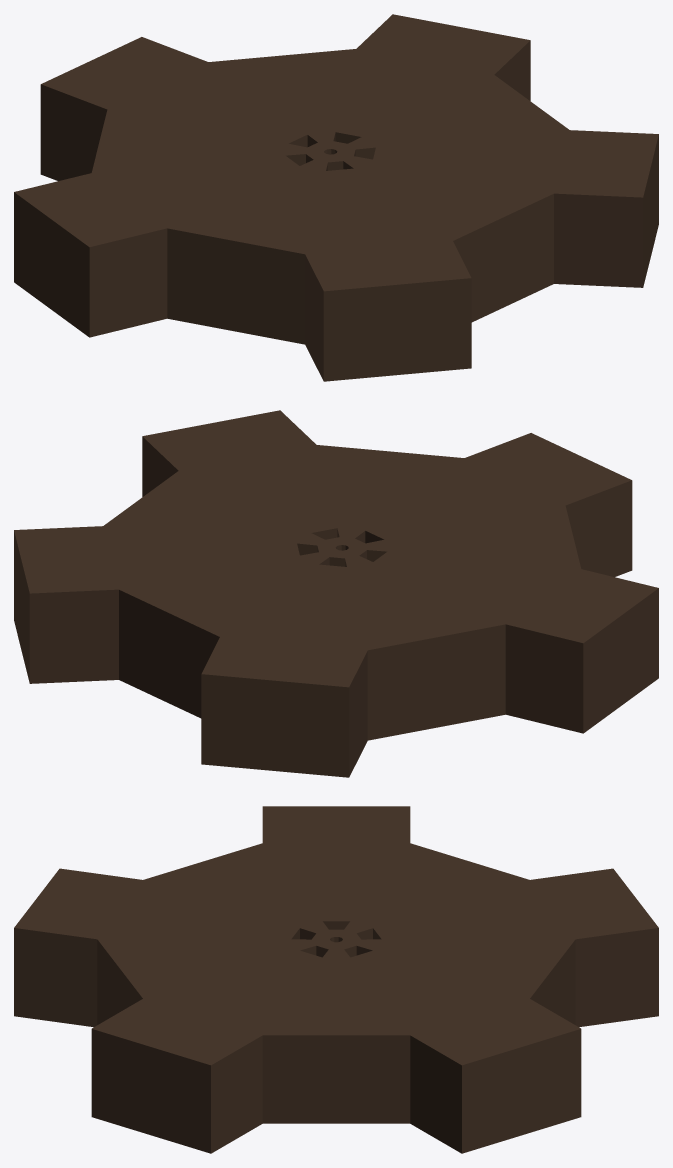
Rendered from Rouage mur 2.fbx.
The picture shows the model from 3 angles, top to bottom: view 1: azimuth 30°, elevation 25°; view 2: azimuth 150°, elevation 25°; view 3: azimuth 270°, elevation 25°; orthographic projection. The views are drawn at different scales.
Visible parts, largest first — view 1: Cercle; view 2: Cercle; view 3: Cercle.
Boxes of the visible parts, <box> form: Cercle: <box>14,14,658,381</box>; Cercle: <box>14,410,658,777</box>; Cercle: <box>14,806,658,1153</box>.
Size of the model in its own units: 228 by 36.31 by 240.
